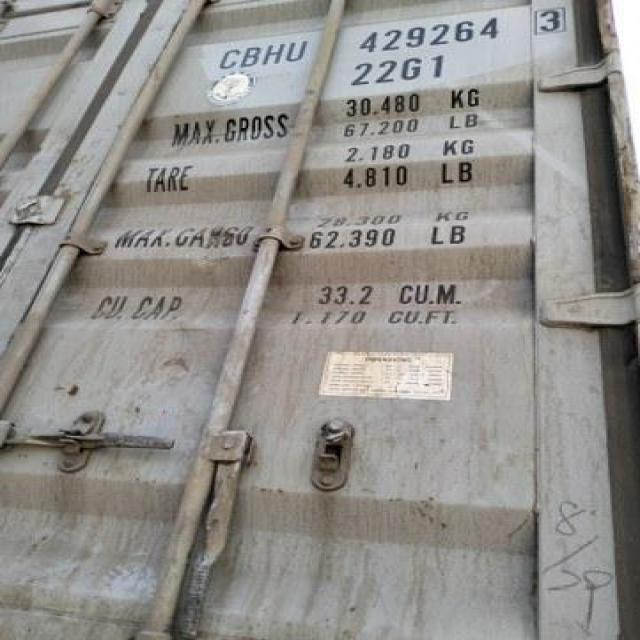container_number_h: (148, 0, 586, 92)
